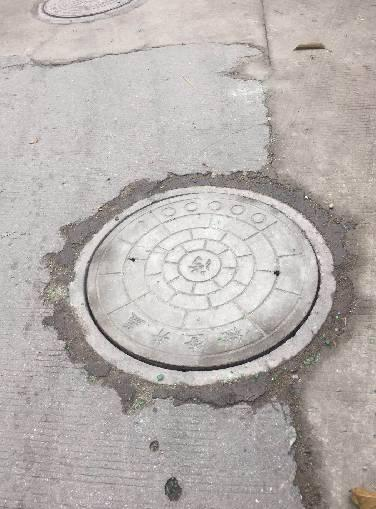wellcover: (64, 179, 354, 389)
